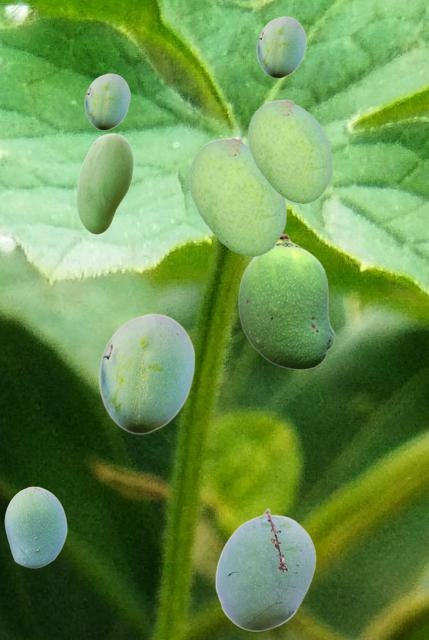green_mango: (238, 233, 334, 369), (215, 508, 315, 630), (98, 313, 194, 433), (189, 137, 285, 255), (248, 99, 331, 202), (76, 133, 132, 233), (4, 486, 66, 567), (256, 16, 305, 77), (84, 73, 129, 129)
